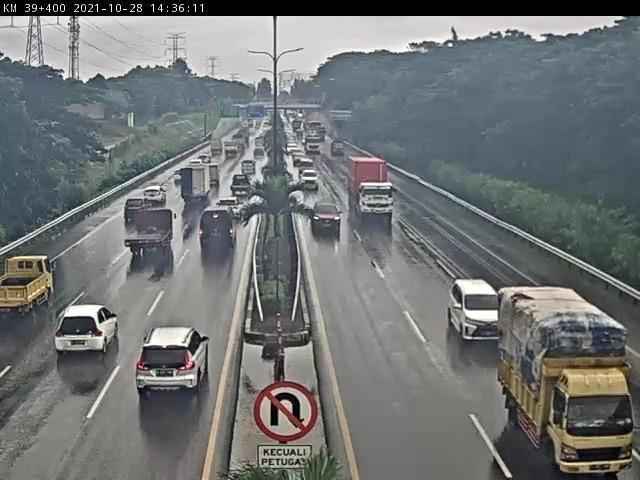car: (141, 324, 211, 407), (443, 274, 508, 349), (58, 302, 109, 376), (307, 198, 348, 241), (198, 214, 232, 264), (144, 185, 168, 214), (116, 199, 146, 220), (215, 201, 240, 226), (230, 178, 252, 201), (298, 173, 322, 190), (240, 162, 256, 181), (294, 156, 316, 167), (253, 147, 266, 164), (171, 173, 180, 186)
truck: (512, 294, 632, 476), (1, 246, 65, 313), (351, 159, 391, 227), (122, 216, 172, 263), (182, 168, 217, 207)
